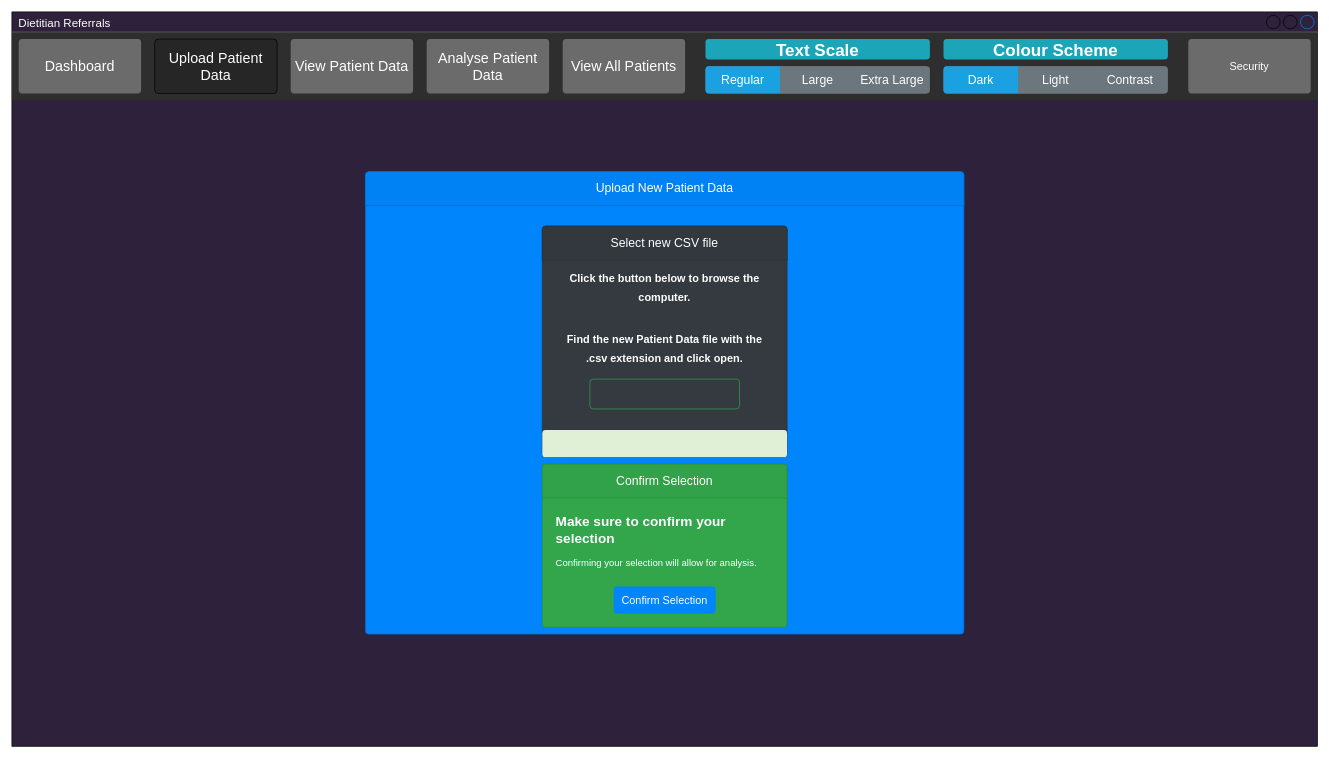
Image size: 1329x758. Some labels were removed from this diagram. The shapes that lost their labels are listed below. From the top down, each one's centre as x and y in pixels, then its label:
At point 664,393: "Browse Files".
At point 664,443: "CSV File Found Successfully".
